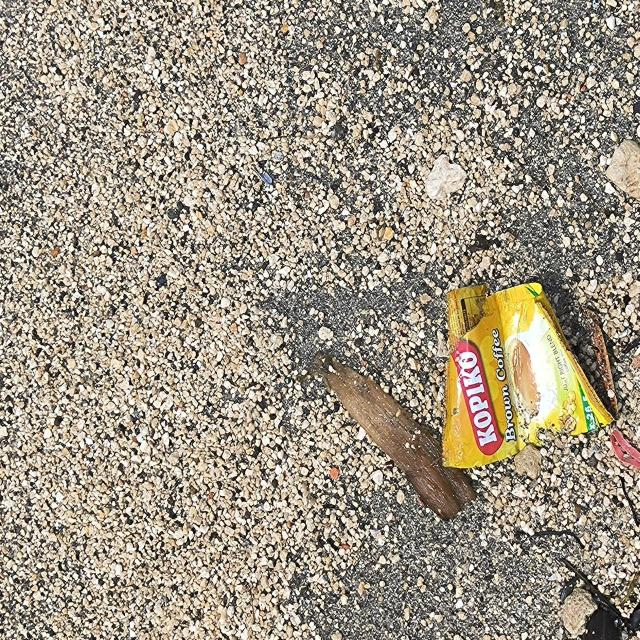plastic_waste: (442, 282, 620, 470)
